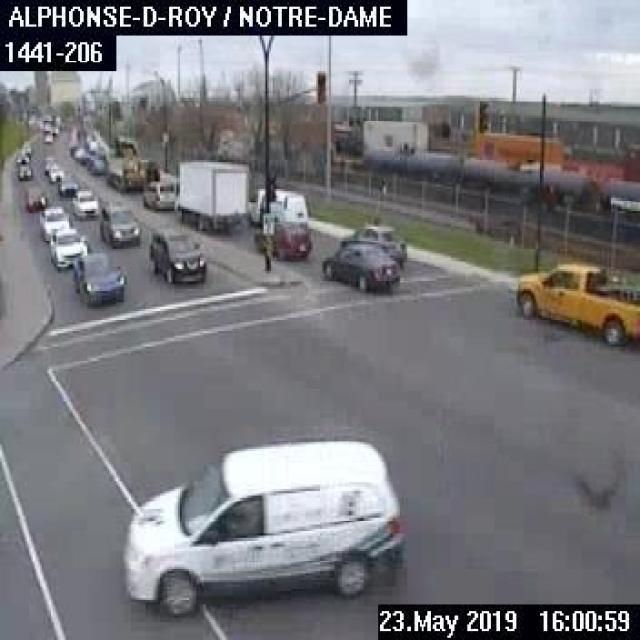vehicle: (120, 436, 407, 616), (511, 258, 638, 346), (172, 156, 251, 236), (69, 246, 130, 307), (321, 244, 400, 289), (147, 228, 205, 282), (337, 222, 406, 265), (104, 134, 157, 188), (250, 217, 311, 261), (251, 185, 309, 228), (97, 198, 140, 248), (47, 226, 88, 268), (138, 174, 177, 211), (35, 202, 68, 237), (70, 185, 98, 218), (24, 187, 49, 213), (55, 174, 78, 198), (88, 154, 106, 172), (48, 166, 66, 183), (43, 155, 56, 173), (15, 163, 29, 175), (16, 152, 28, 162)
